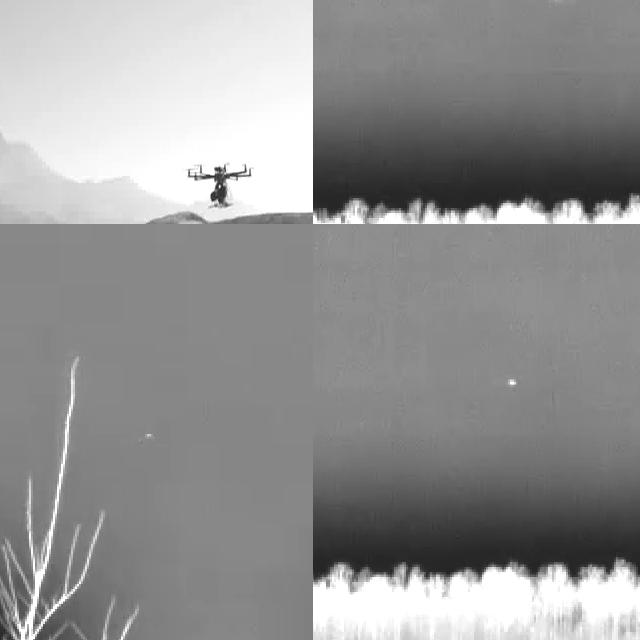0: (138, 425, 166, 453)
1: (500, 367, 534, 405), (543, 0, 577, 17)
drone: (186, 158, 253, 213)
